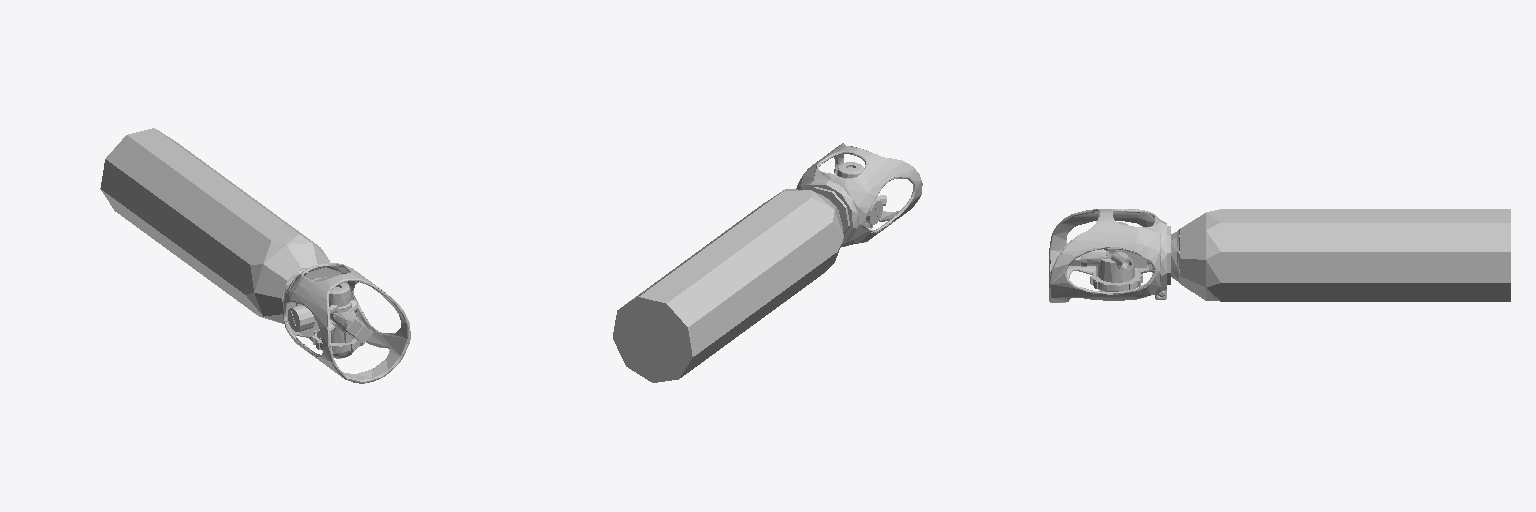
The model's file is Industrial_Fire_Extinguisher.obj.
3 views of the same model, side by side, from view 1: azimuth 30°, elevation 25°; view 2: azimuth 150°, elevation 25°; view 3: azimuth 270°, elevation 25° (orthographic).
Parts seen in each view (by area): view 1: Solid1, Solid1:1, Solid1:4, Solid1:7; view 2: Solid1, Solid1:1; view 3: Solid1, Solid1:1, Solid1:4, Solid1:12.
Boxes of the visible parts, x1=… form: Solid1: x1=100, y1=128, x2=329, y2=326; Solid1:1: x1=283, y1=263, x2=410, y2=383; Solid1:4: x1=314, y1=287, x2=357, y2=343; Solid1:7: x1=329, y1=283, x2=351, y2=313; Solid1: x1=613, y1=187, x2=849, y2=382; Solid1:1: x1=796, y1=143, x2=922, y2=246; Solid1: x1=1167, y1=209, x2=1510, y2=301; Solid1:1: x1=1049, y1=209, x2=1166, y2=302; Solid1:4: x1=1087, y1=249, x2=1150, y2=282; Solid1:12: x1=1090, y1=270, x2=1142, y2=290.
Bounding box in the file's own units: 0.1398 × 0.14 × 0.685.